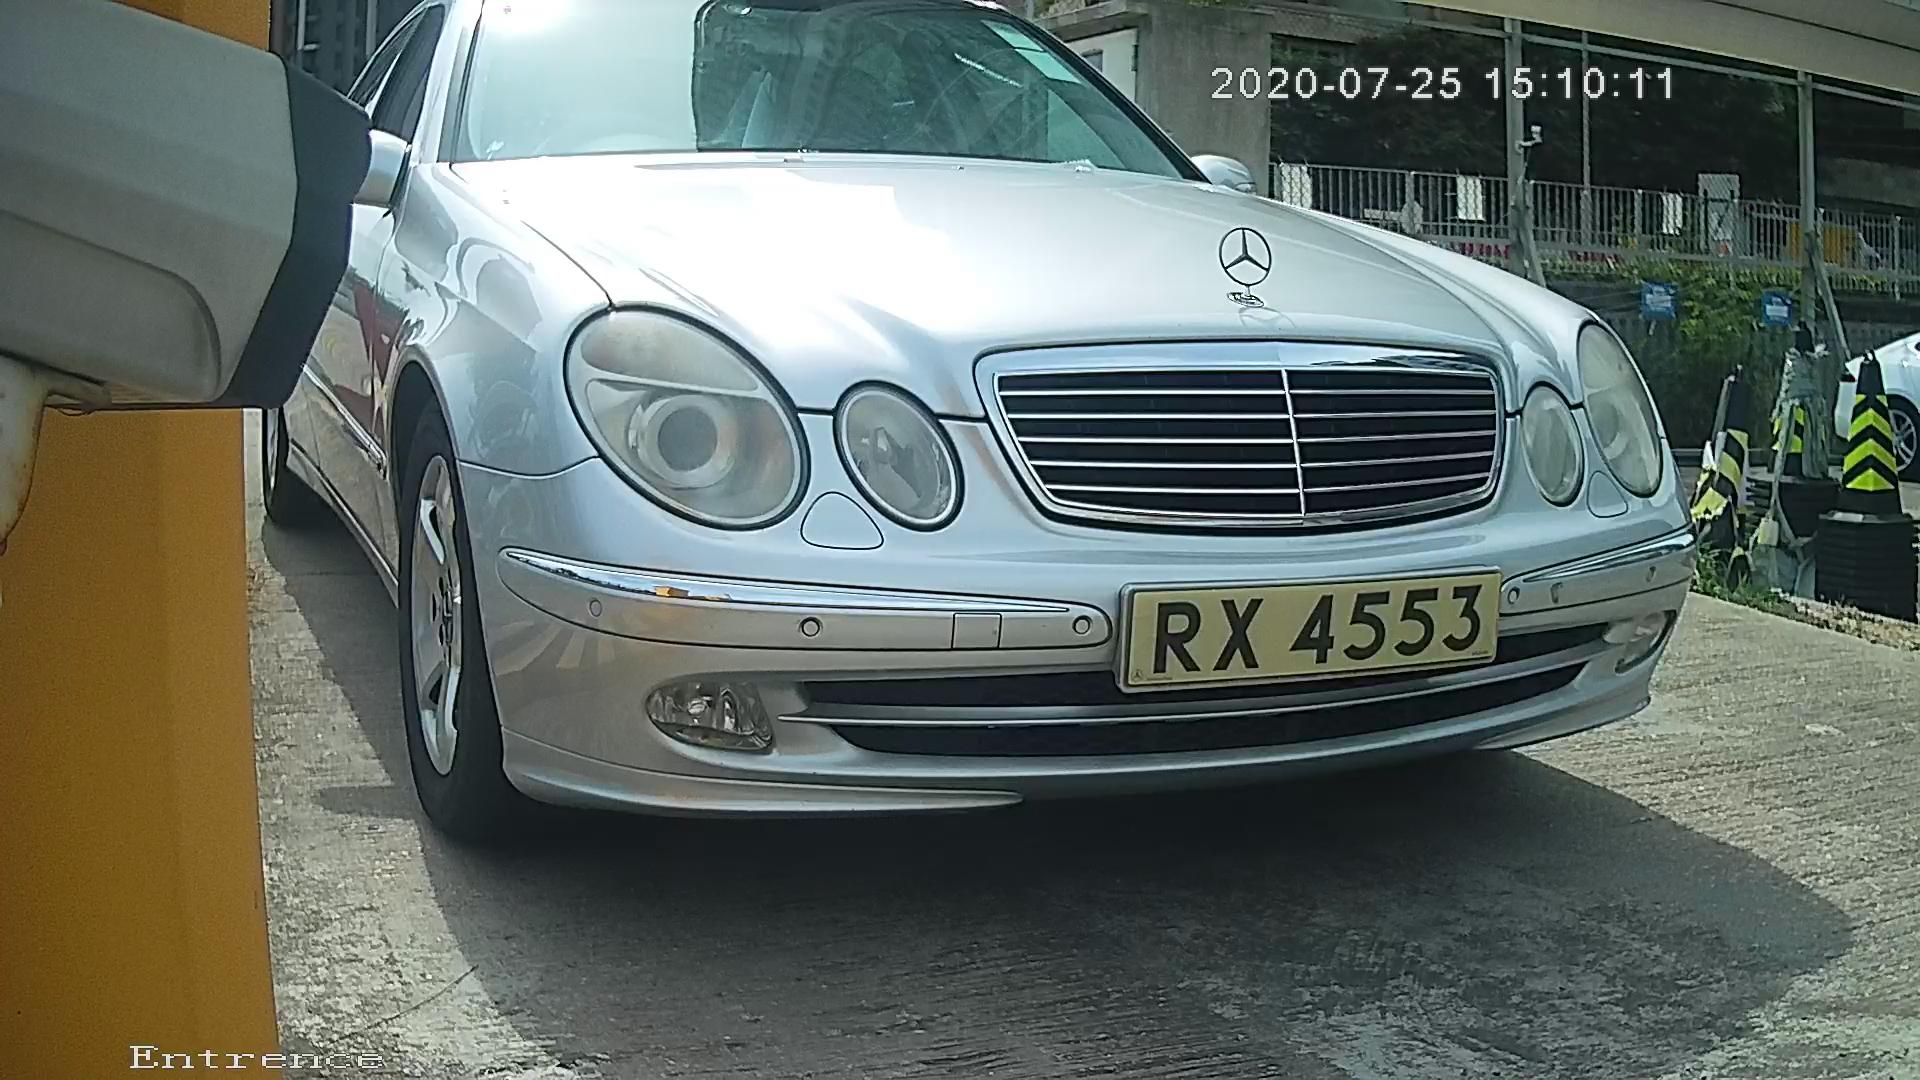License Plate: (1081, 560, 1526, 704)
